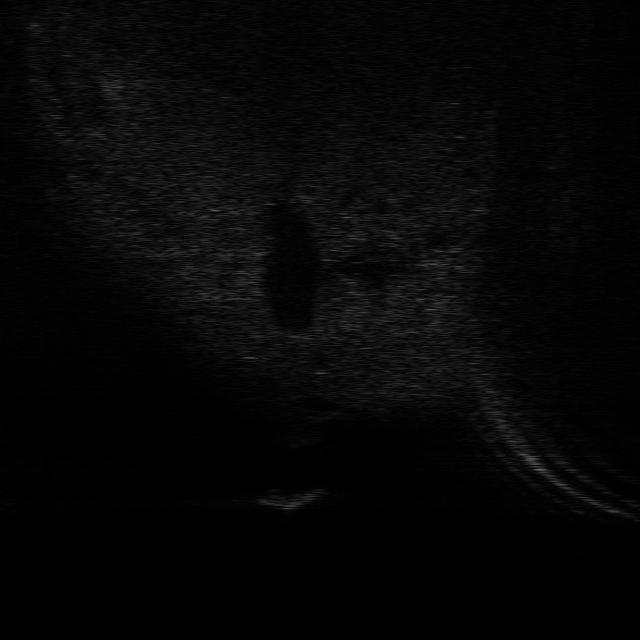cube: (251, 484, 324, 512)
